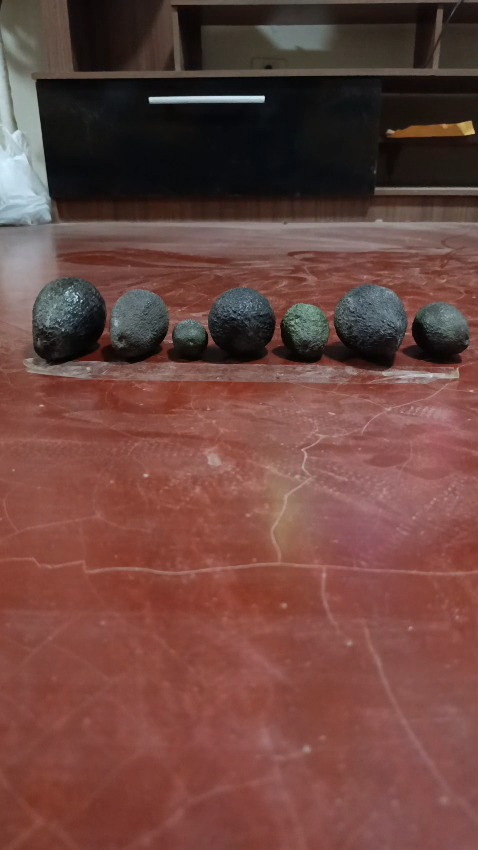Primera: (30, 275, 108, 362), (333, 283, 409, 360), (206, 286, 276, 358), (107, 287, 172, 359)
Segunda: (409, 301, 469, 360), (279, 302, 330, 360)
Tercera: (170, 319, 207, 359)
